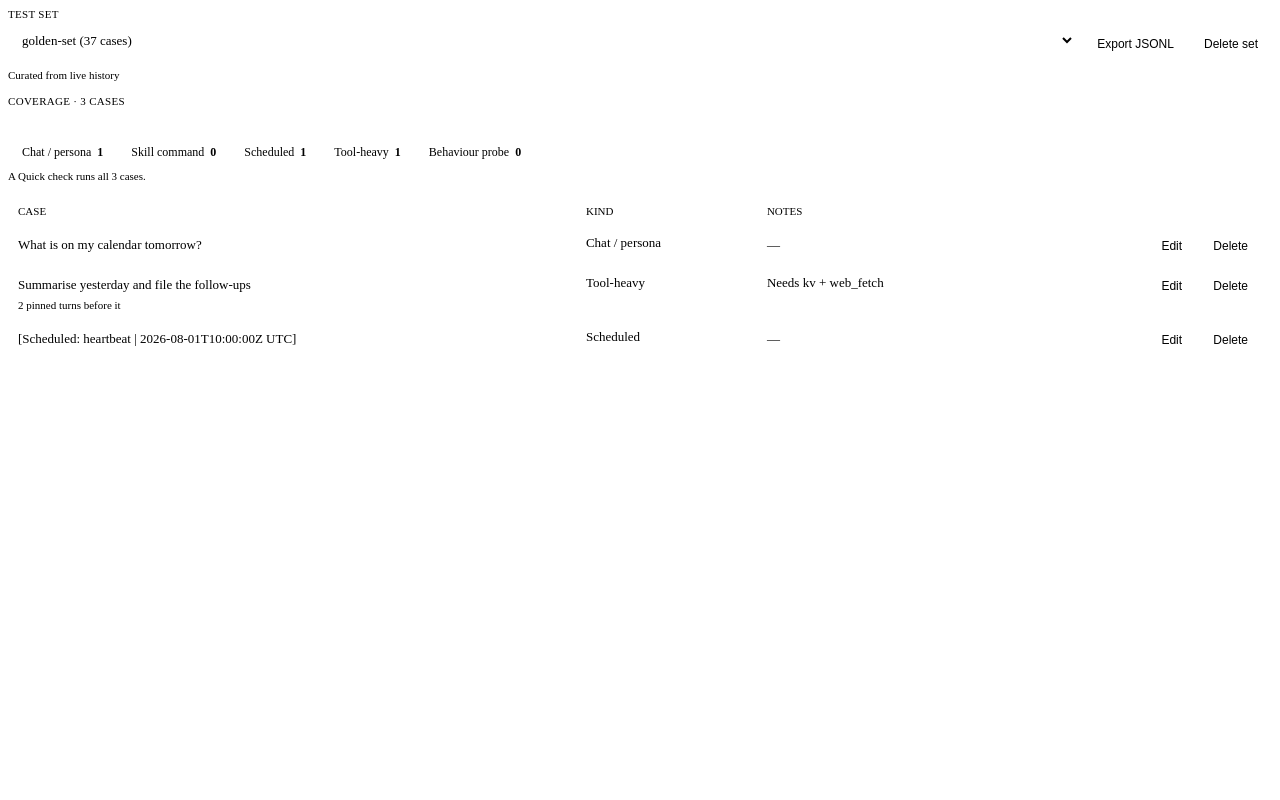
Test: EvalTestSets — deleting › cancelling the dialog returns focus to the button that opened it
expect the table with test id "cases-table" is shown: met, box left=8, top=196, right=1272, bottom=360
What coordinates should you click on to do the following:
click the button with test id "delete-set"
I would click on:
 (1231, 44)
Its box is left=1194, top=33, right=1268, bottom=55.
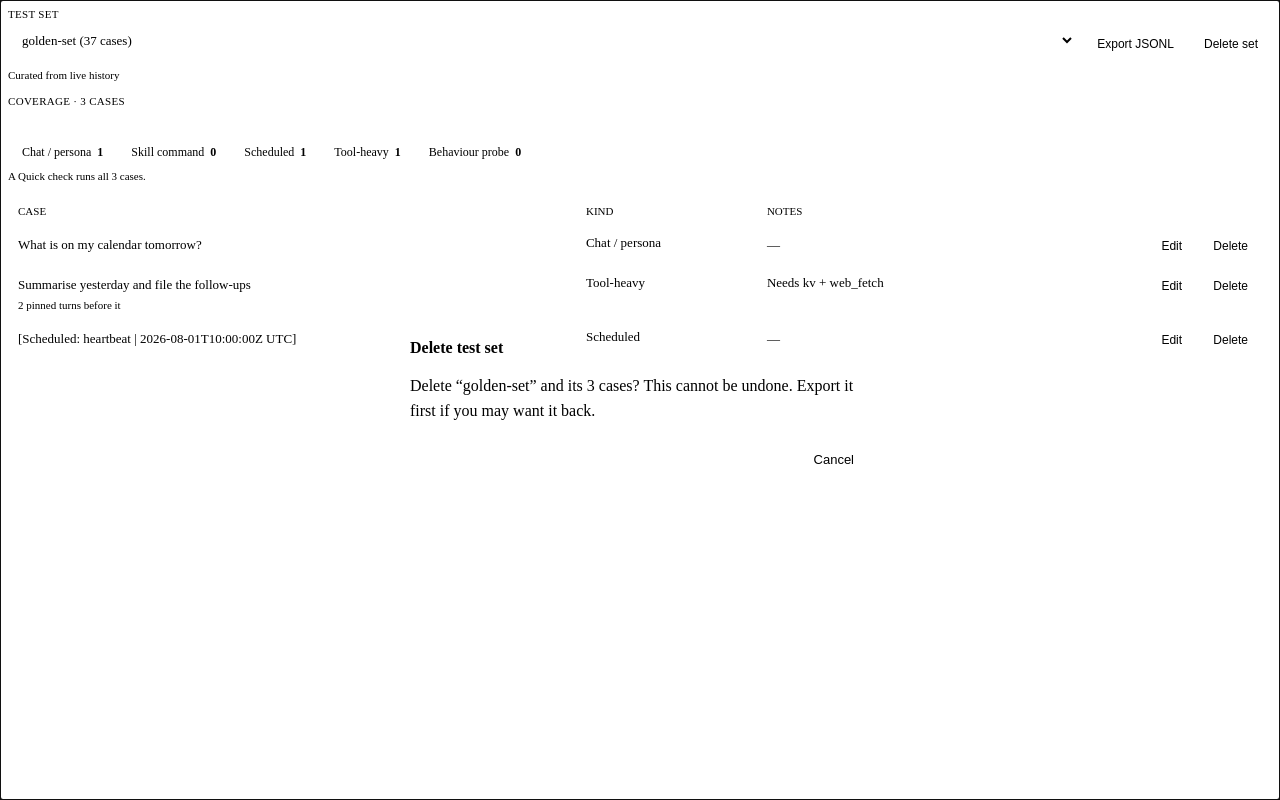
What coordinates should you click on to do the following:
click the button "Cancel"
I would click on:
 (834, 459)
Its box is left=798, top=444, right=870, bottom=475.
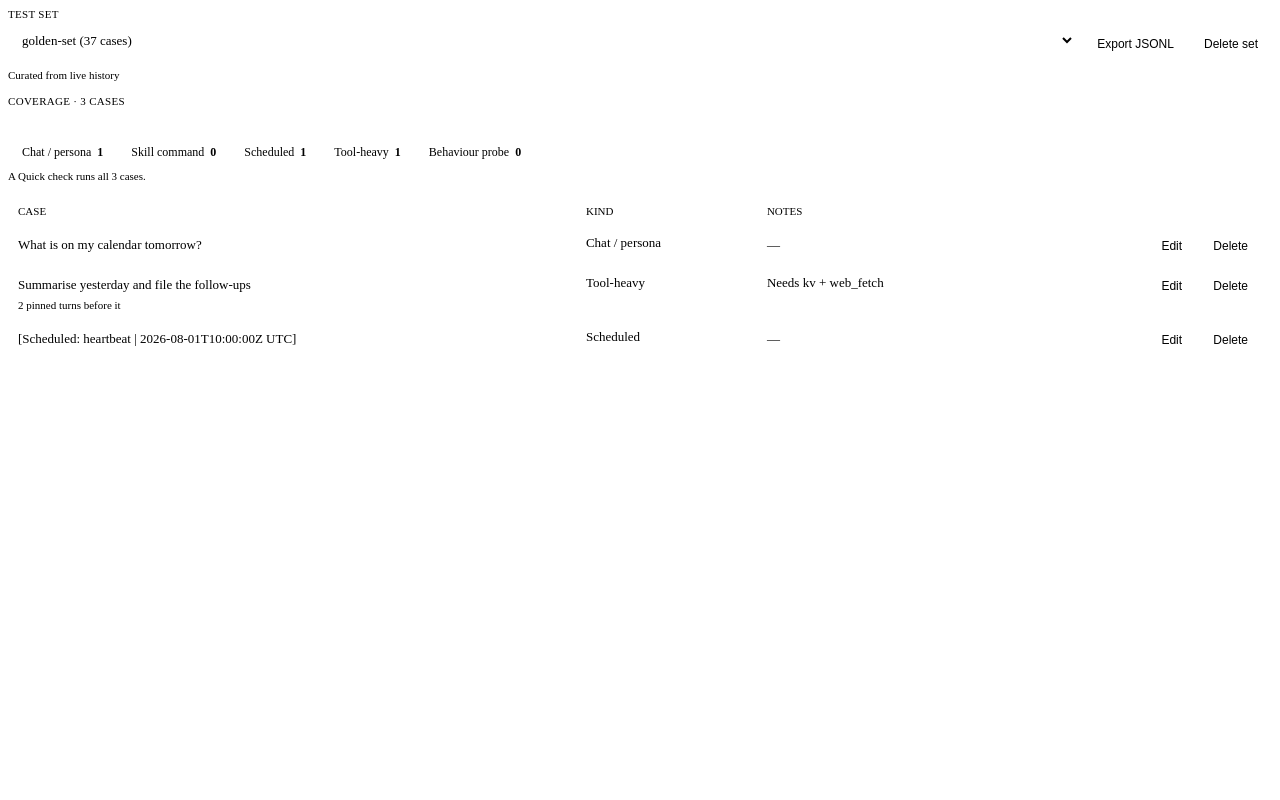
expect the element with test id "delete-confirm" is gone: met
